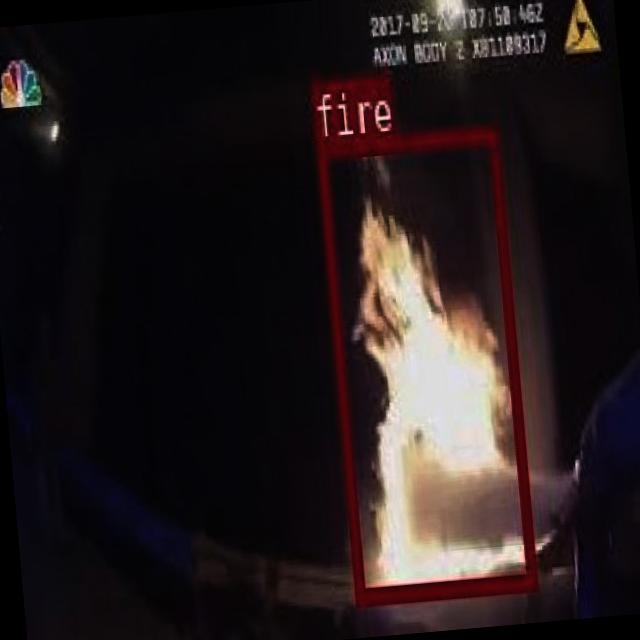fire: (314, 124, 536, 603)
